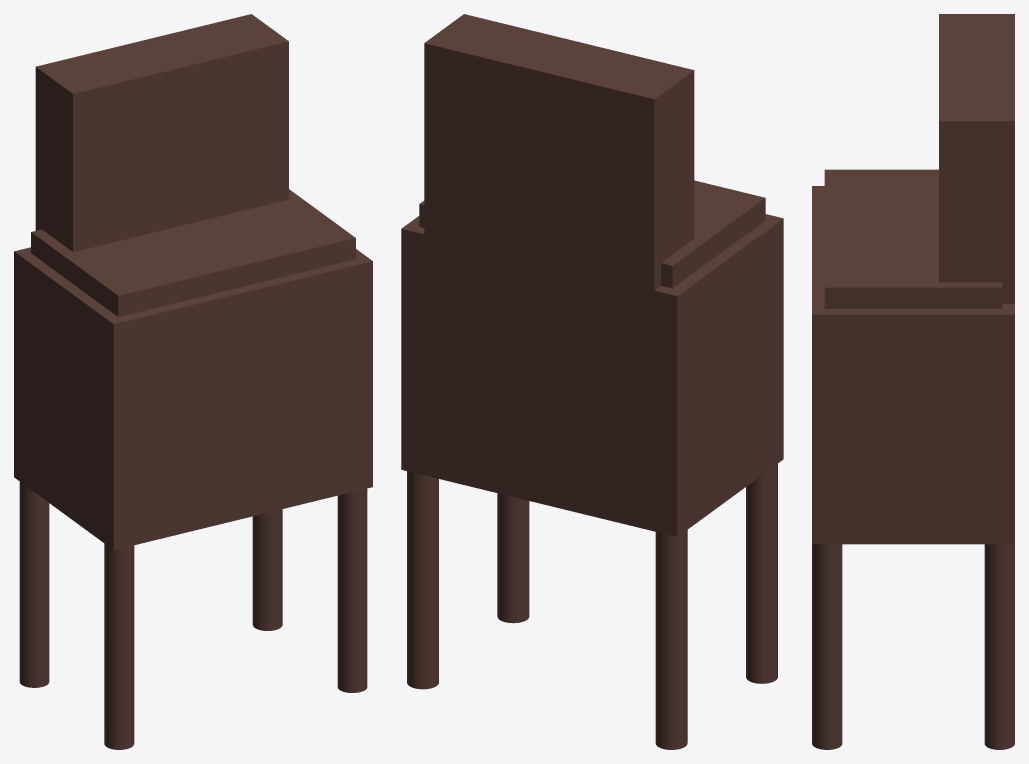
3 renders of one model, left to right at view 1: azimuth 30°, elevation 25°; view 2: azimuth 150°, elevation 25°; view 3: azimuth 270°, elevation 25°, orthographic. The views are drawn at different scales.
Parts seen in each view (by area): view 1: base_frame, backrest, seat, leg_1, leg_2, leg_3, leg_4; view 2: base_frame, backrest, leg_3, leg_4, leg_1, seat, leg_2; view 3: base_frame, backrest, seat, leg_2, leg_4.
Boxes of the visible parts, left/top/right/bottom form: base_frame: left=14, top=247, right=372, bottom=549; backrest: left=35, top=14, right=288, bottom=251; seat: left=31, top=189, right=355, bottom=316; leg_1: left=104, top=543, right=134, bottom=749; leg_2: left=337, top=488, right=367, bottom=692; leg_3: left=19, top=482, right=49, bottom=687; leg_4: left=252, top=509, right=282, bottom=630; base_frame: left=401, top=214, right=783, bottom=536; backrest: left=424, top=14, right=694, bottom=290; leg_3: left=655, top=530, right=687, bottom=749; leg_4: left=407, top=471, right=438, bottom=689; leg_1: left=746, top=464, right=777, bottom=683; seat: left=419, top=180, right=765, bottom=288; leg_2: left=497, top=493, right=529, bottom=623; base_frame: left=812, top=186, right=1014, bottom=544; backrest: left=939, top=14, right=1014, bottom=303; seat: left=824, top=169, right=1002, bottom=308; leg_2: left=812, top=544, right=842, bottom=749; leg_4: left=984, top=544, right=1014, bottom=749.
Bounding box in the file's own units: 0.6 × 1.34 × 0.4.
